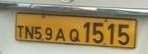1: (106, 23, 116, 44), (83, 22, 91, 43)
5: (117, 23, 131, 45), (92, 22, 105, 43), (34, 26, 43, 40)
9: (44, 27, 53, 40)
A: (55, 27, 66, 41)
N: (25, 25, 34, 39)
Q: (69, 28, 81, 42)
T: (16, 24, 25, 38)
